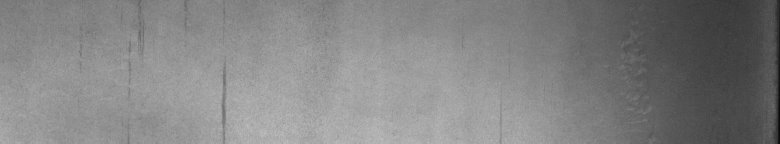ka: (135, 4, 228, 136)
